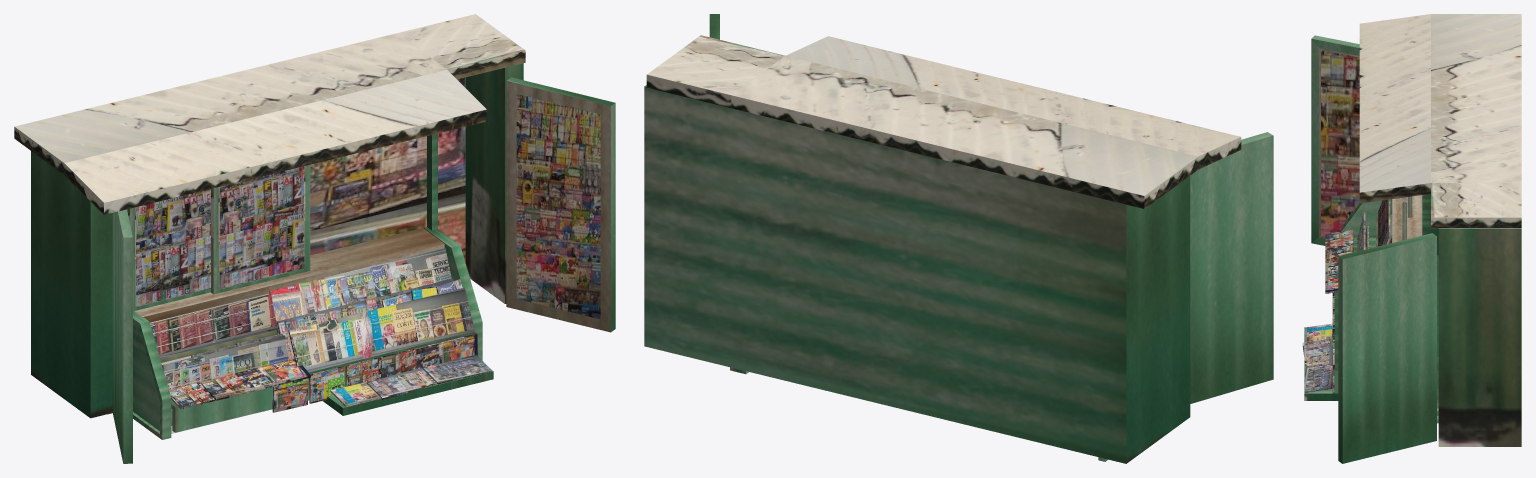
Rendered from PuestoRevistas.fbx.
3 views of the same model, side by side, from view 1: azimuth 30°, elevation 25°; view 2: azimuth 150°, elevation 25°; view 3: azimuth 270°, elevation 25° (orthographic). The views are drawn at different scales.
Visible parts, largest first — view 1: Cube.041; view 2: Cube.041; view 3: Cube.041.
Part boxes in pixels (bbox=[...]): Cube.041: bbox=[14, 14, 615, 463]; Cube.041: bbox=[644, 14, 1273, 463]; Cube.041: bbox=[1302, 14, 1521, 463].
Size of the model in its own units: 265 by 131 by 110.
